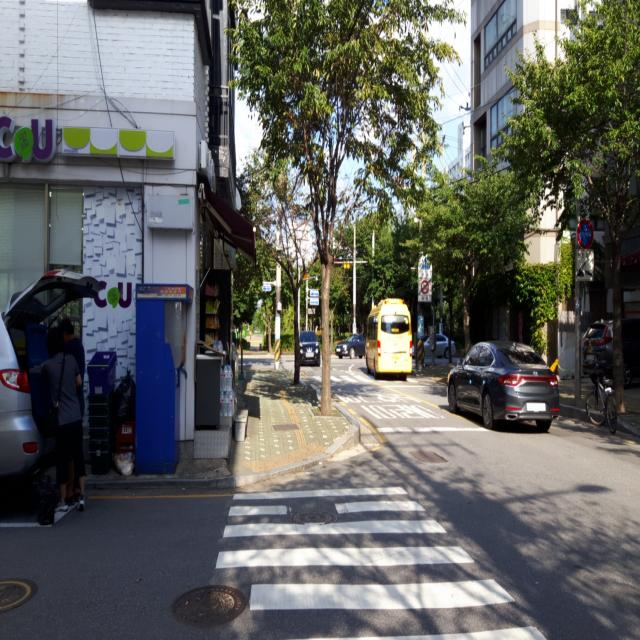횡단보도: (214, 483, 548, 640)
